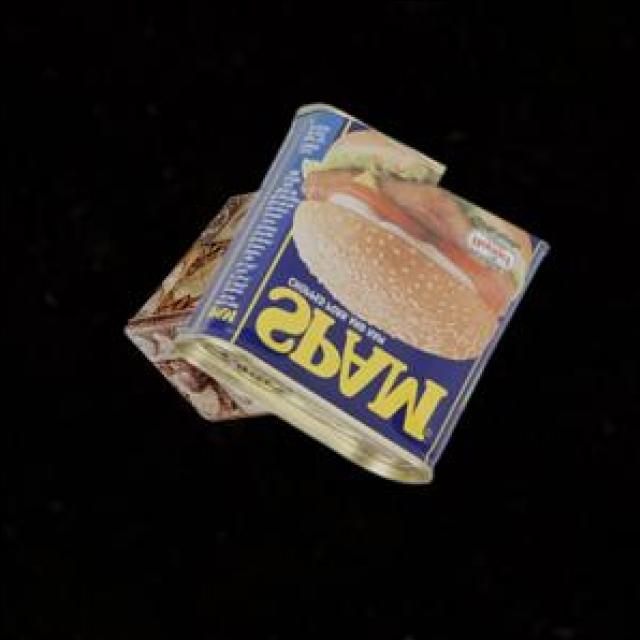logam: (175, 100, 551, 478), (128, 188, 276, 416)
